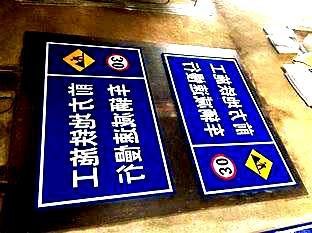sign: (45, 46, 158, 197), (178, 50, 281, 191)
